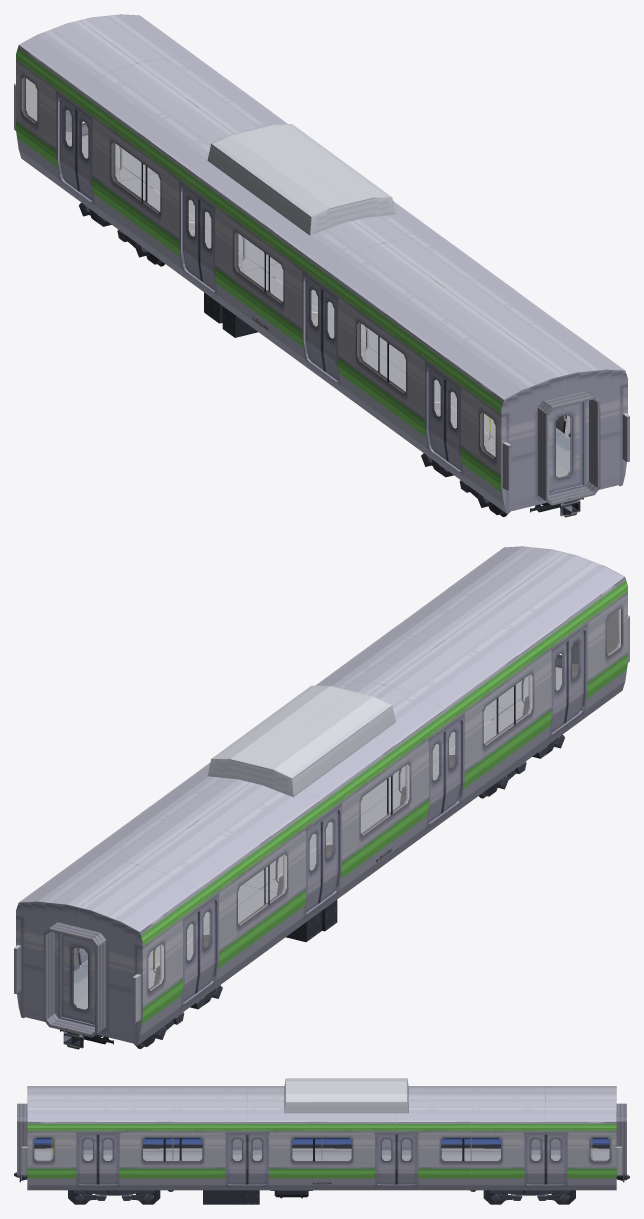
Rendered from jr_east_saha_e231_500.obj.
The picture shows the model from 3 angles, top to bottom: view 1: azimuth 30°, elevation 25°; view 2: azimuth 150°, elevation 25°; view 3: azimuth 270°, elevation 25°; orthographic projection. The views are drawn at different scales.
Parts seen in each view (by area): view 1: body_ext, tail_ext, body_int, door_right_negative_ext, door_right_positive_ext, front_door; view 2: body_ext, tail_ext, body_int, door_right_positive_ext, door_right_negative_ext, back_door; view 3: body_ext, tail_ext, body_int, door_left_negative_ext, door_left_positive_ext, bogie_0, bogie_1, door_right_positive_int, door_right_negative_int.
Boxes of the visible parts, x1,y1,x2,y2 form: body_ext: (56,57,566,474); tail_ext: (14,14,629,517); body_int: (23,77,570,477); door_right_negative_ext: (60,98,447,460); door_right_positive_ext: (76,110,461,470); front_door: (549,402,582,492); body_ext: (77,589,587,1006); tail_ext: (14,546,629,1049); body_int: (73,609,620,1009); door_right_positive_ext: (196,630,583,992); door_right_negative_ext: (182,642,567,1002); back_door: (61,934,94,1024); body_ext: (76,1078,567,1204); tail_ext: (14,1086,629,1190); body_int: (34,1138,609,1161); door_left_negative_ext: (98,1134,565,1184); door_left_positive_ext: (78,1134,545,1184); bogie_0: (73,1190,154,1203); bogie_1: (489,1190,570,1203); door_right_positive_int: (83,1139,540,1150); door_right_negative_int: (103,1139,560,1150).
Size of the model in its own units: 2.94 by 4.03 by 20.38.
4 materials, 4 textured.
